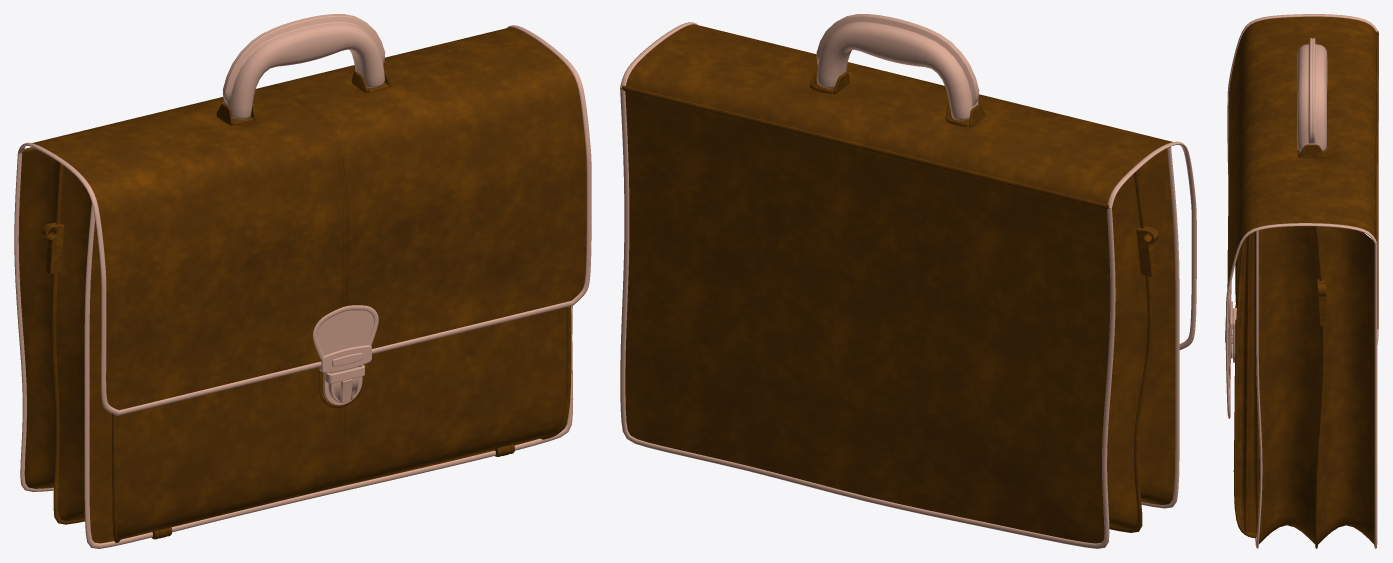
The model's file is formal_case.glb.
3 renders of one model, left to right at view 1: azimuth 30°, elevation 25°; view 2: azimuth 150°, elevation 25°; view 3: azimuth 270°, elevation 25°, orthographic. The views are drawn at different scales.
Visible parts, largest first — view 1: briefcase_1; view 2: briefcase_1; view 3: briefcase_1.
Boxes of the visible parts, x1=… form: briefcase_1: x1=14, y1=14, x2=591, y2=548; briefcase_1: x1=620, y1=14, x2=1196, y2=548; briefcase_1: x1=1225, y1=14, x2=1378, y2=548.
Bounding box in the file's own units: 0.011 × 0.00941 × 0.00326.
Materials: 2 (2 with a texture image).
